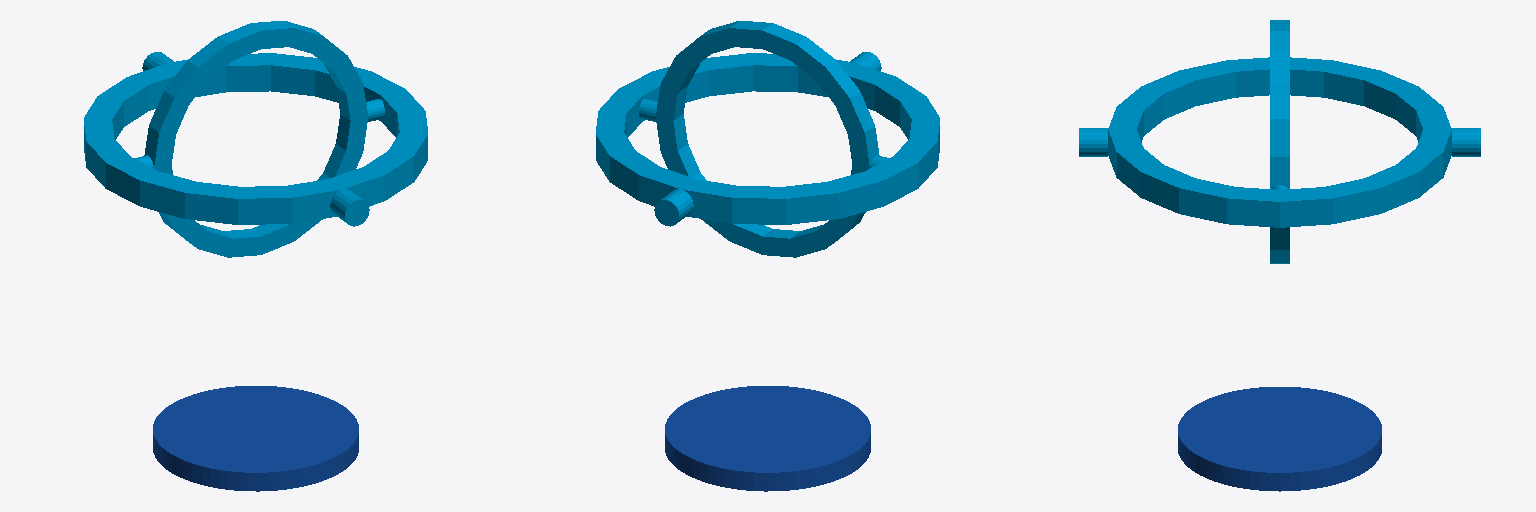
URDF robot description (gyro):
<?xml version="1.0" ?>
<robot name="gyro">

    <material name="industrial">
        <color rgba="0.1137254 0.345098039 0.654901960 1" />
    </material>
    
    <material name="arches">
        <color rgba="0.0 0.623529411 0.831372 1" />
    </material>
    
    <material name = "heritage">
        <color rgba = "0.96078431 0.50980392 0.11764706 1" />
    </material>
    
    <link name="core">
        <visual>
            <origin rpy="0 0 0" xyz="0 0 0"/>
            <geometry>
                <mesh filename="core.stl" scale="0.1 0.1 0.1"/>
            </geometry>
            <material name = "heritage"/>
        </visual>
        <inertial>
            <origin rpy="0 0 0" xyz="0 0 0"/>
            <mass value="1.0"/>
            <inertia ixx="0.134" ixy="0" ixz="0" iyy="0.134" iyz="0" izz="0.101"/>
        </inertial>
    </link>
        
    <link name="r1" concave="yes">
        <visual>
            <origin rpy="0 0 0" xyz="0 0 0"/>
            <geometry>
                <mesh filename="ring.stl" scale="0.1 0.1 0.1"/>
            </geometry>
            <material name = "arches"/>
        </visual>
        <inertial>
            <origin rpy="0 0 0" xyz="0 0 0"/>
            <mass value="0.001"/>
            <inertia ixx="0.0018" ixy="0" ixz="0" iyy="0.0018" iyz="0" izz="0.0036"/>
        </inertial>
    </link>

    <link name="r2" concave="yes">
        <visual>
            <origin rpy="0 0 0" xyz="0 0 0"/>
            <geometry>
                <mesh filename="ring.stl" scale="0.14 0.14 0.14"/>
            </geometry>
            <material name = "arches"/>
        </visual>
        <inertial>
            <origin rpy="0 0 0" xyz="0 0 0"/>
            <mass value="0.014"/>
            <inertia ixx="0.0050" ixy="0" ixz="0" iyy="0.0050" iyz="0" izz="0.0099"/>
        </inertial>
    </link>

    <link name="outer" concave="yes">
        <visual>
            <origin rpy="0 1.571 0" xyz="0 0 0"/>
            <geometry>
                <mesh filename="outer.stl" scale="0.1 0.1 0.1"/>
            </geometry>
            <material name = "arches"/>
        </visual>
        <inertial>
            <origin rpy="0 1.571 0" xyz="0 0 0"/>
            <mass value="0.020"/>
            <inertia ixx="0.0233" ixy="0" ixz="0" iyy="0.0117" iyz="0" izz="0.0117"/>
        </inertial>
    </link>

    <link name="base">
        <visual>
            <origin rpy="0 0 0" xyz="0 0 0"/>
            <geometry>
                <mesh filename="cylinder.stl" scale="1 1 0.1"/>
            </geometry>
            <material name = "industrial"/>
        </visual>
        <inertial>
            <origin rpy="0 0 0" xyz="0 0 0"/>
            <mass value="0"/>
            <inertia ixx="0" ixy="0" ixz="0" iyy="0" iyz="0" izz="0"/>
        </inertial>
    </link>

    <joint name="base_to_outer" type="continuous">
        <parent link = "base" />
        <child link = "outer" />
        <origin rpy="0 0 0" xyz = "0 0 1.6" />
        <axis xyz = "0 0 1" />
    </joint>

    <joint name="outer_to_r2" type="continuous">
        <parent link = "outer" />
        <child link = "r2" />
        <origin rpy="0 0 0" xyz = "0 0 0" />
        <axis xyz = "0 1 0" />
    </joint>

    <joint name="r2_to_r1" type="continuous">
        <parent link = "r2" />
        <child link = "r1" />
        <origin rpy="0 1.571 1.571" xyz = "0 0 0" />
        <axis xyz = "0 1 0" />
    </joint>

    <joint name="r1_to_core" type="continuous">
        <parent link = "r1" />
        <child link = "core" />
        <origin rpy="0 1.571 0" xyz = "0 0 0" />
        <axis xyz = "0 0 1" />
    </joint>

</robot>

--- Facts derived from the render (not from the file) ---
The picture shows the robot from 3 angles, left to right: view 1: azimuth 30°, elevation 25°; view 2: azimuth 150°, elevation 25°; view 3: azimuth 270°, elevation 25°; orthographic projection.
Model gyro with 5 links and 4 joints (4 continuous), rooted at base, posed all joints at 0.
Visible links, largest first — view 1: r2, base, r1; view 2: r2, base, r1; view 3: r2, base, r1.
Boxes of the visible links, left/top/right/bottom form: r2: left=84, top=52, right=427, bottom=226; base: left=153, top=386, right=358, bottom=491; r1: left=134, top=21, right=384, bottom=257; r2: left=596, top=52, right=939, bottom=226; base: left=665, top=386, right=870, bottom=491; r1: left=639, top=21, right=889, bottom=257; r2: left=1079, top=57, right=1480, bottom=227; base: left=1178, top=387, right=1381, bottom=491; r1: left=1270, top=20, right=1289, bottom=263.
Size in the robot's own frame: 1.68 by 1.96 by 2.25 metres.
3 mesh visuals loaded from 4 distinct referenced files (2 binary STL); not drawn: 2 (reference not matched to a file when rendering).